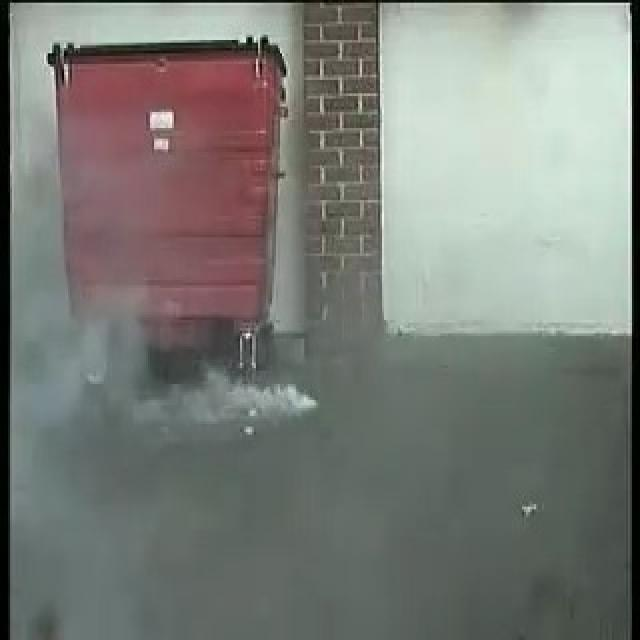smoke: (74, 326, 322, 426)
